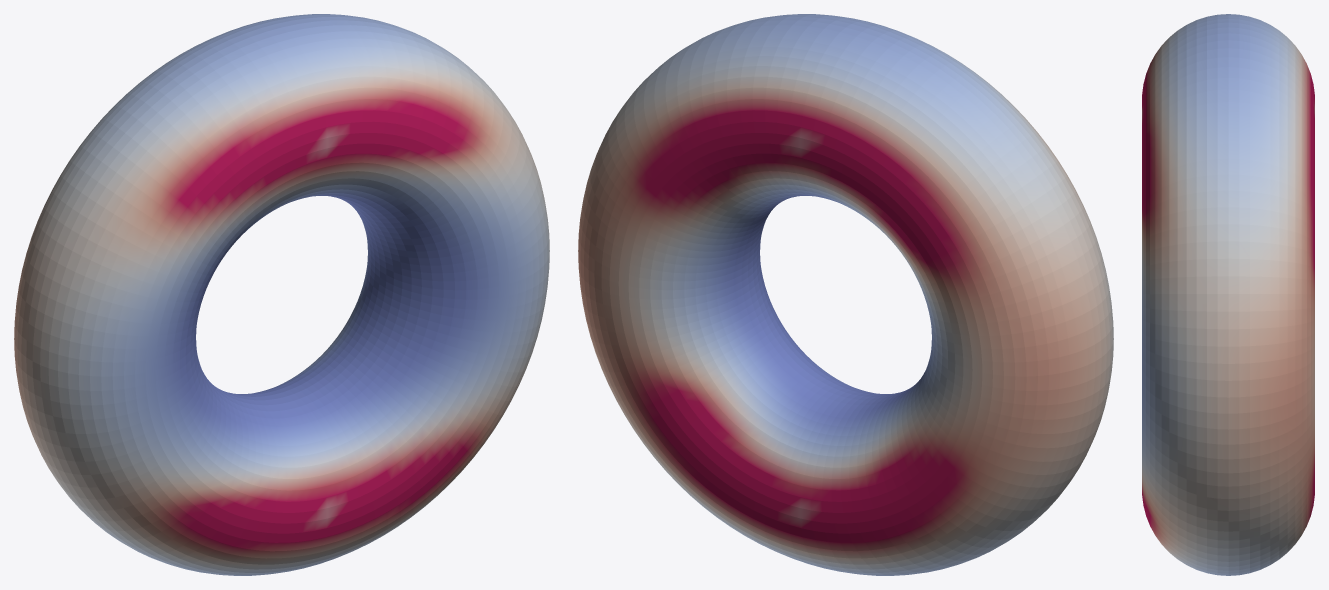
The picture shows the model from 3 angles, left to right: view 1: azimuth 30°, elevation 25°; view 2: azimuth 150°, elevation 25°; view 3: azimuth 270°, elevation 25°; orthographic projection. The views are drawn at different scales.
Parts seen in each view (by area): view 1: world; view 2: world; view 3: world.
Boxes of the visible parts, x1,y1,x2,y2 form: world: [14, 14, 549, 575]; world: [578, 14, 1113, 575]; world: [1142, 14, 1314, 575].
Size of the model in its own units: 21.2 by 21.2 by 6.52.
